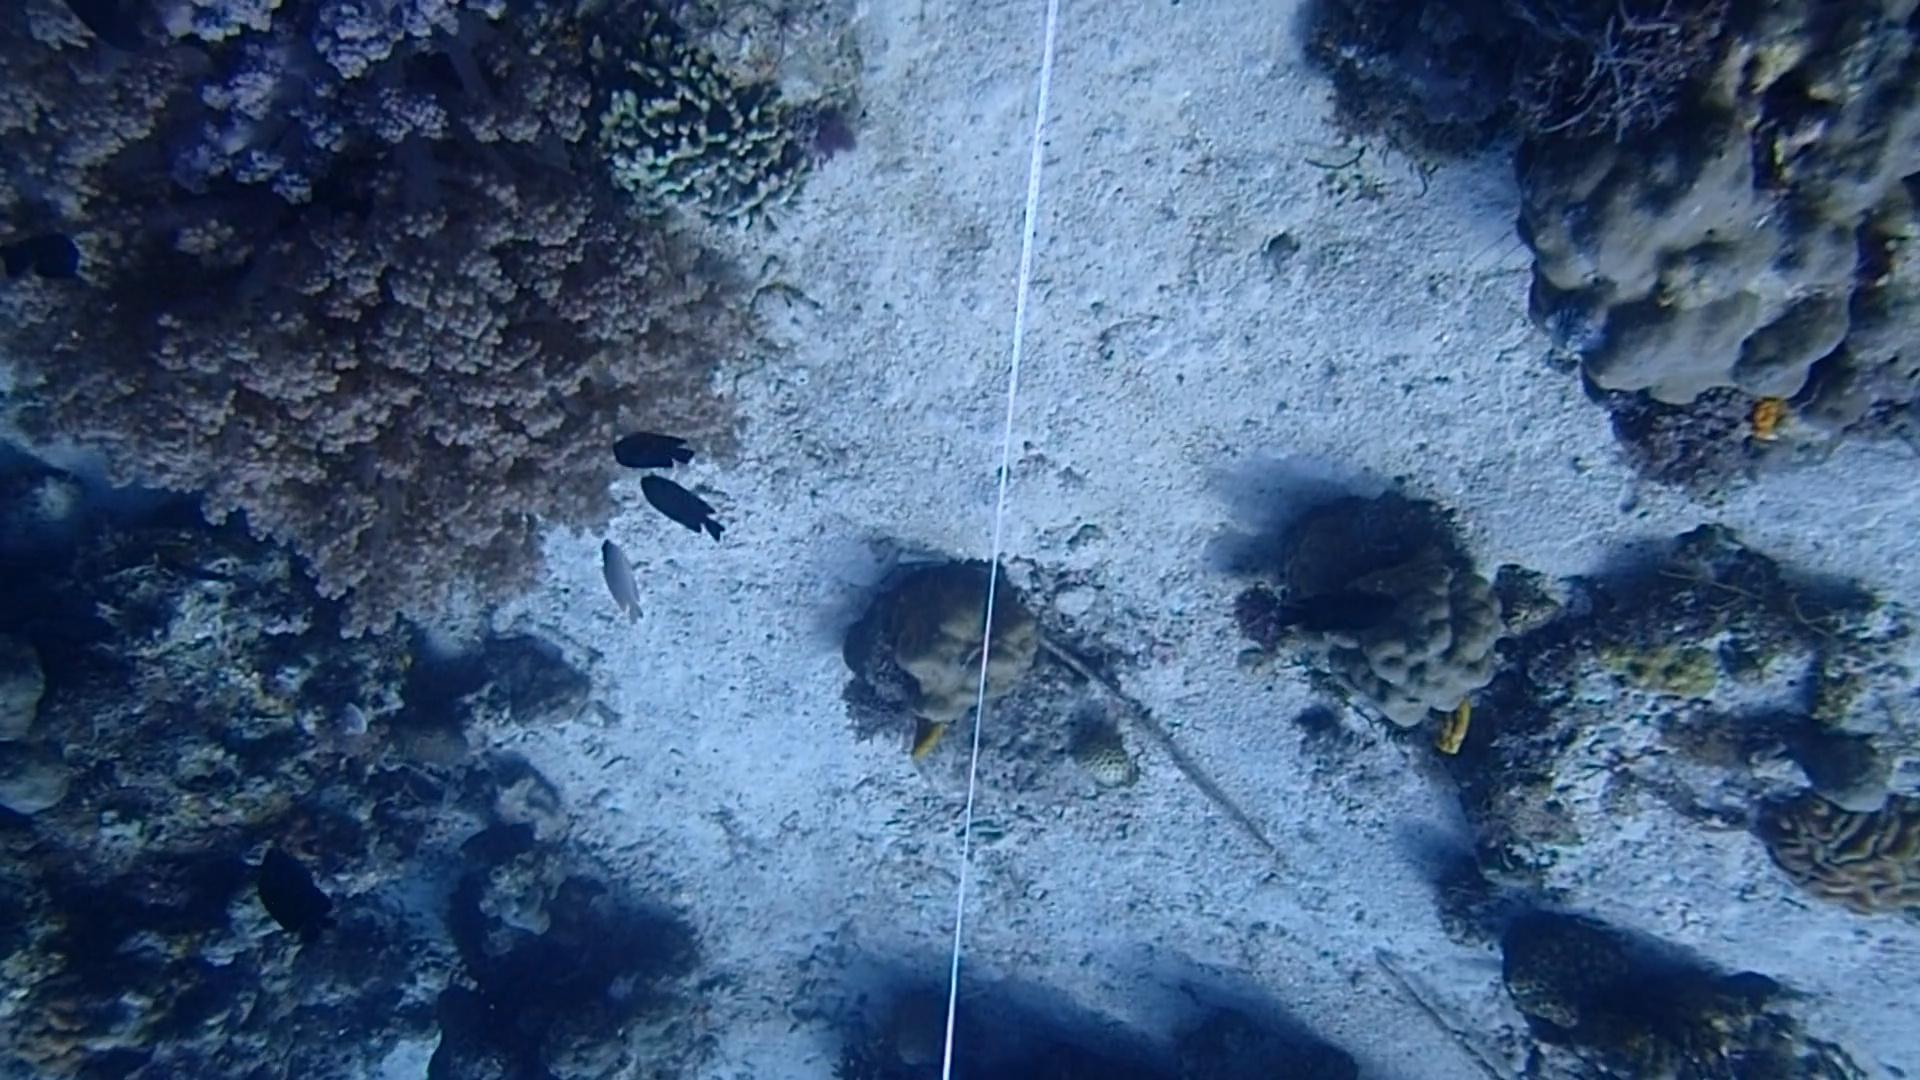Dark Fish: (247, 840, 344, 955), (1271, 579, 1414, 647), (632, 465, 731, 547), (0, 229, 109, 291), (58, 0, 158, 61), (604, 419, 708, 477)
Light Fish: (582, 534, 658, 628)
